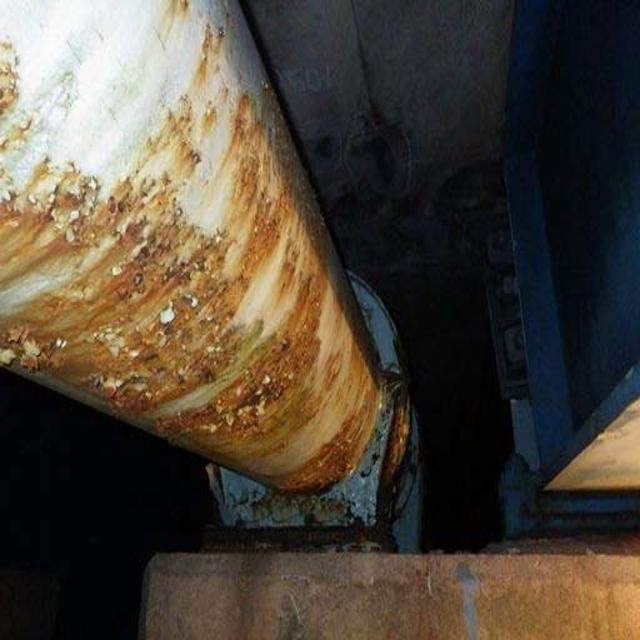corrosion: (43, 36, 414, 521)
